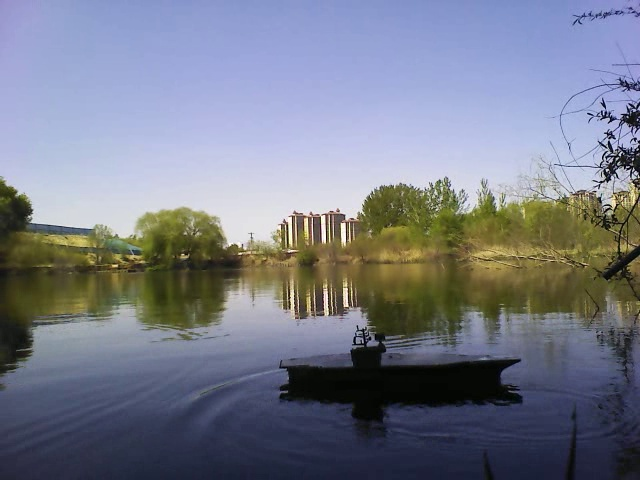aircraft_carrier: (278, 333, 526, 394)
